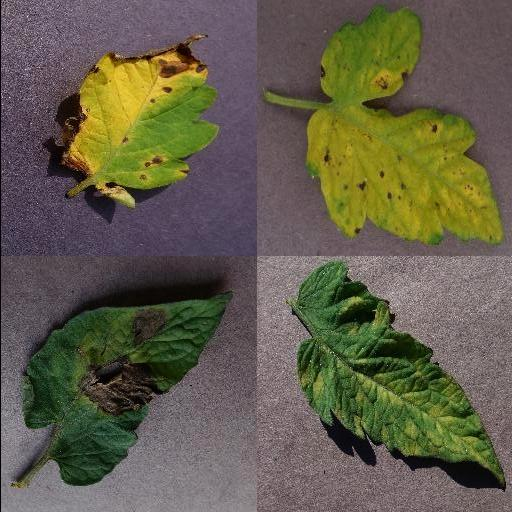Late Blight: (21, 290, 235, 486)
Leaf Mold: (295, 263, 505, 491)
Septoria: (306, 7, 504, 246), (56, 37, 218, 212)
